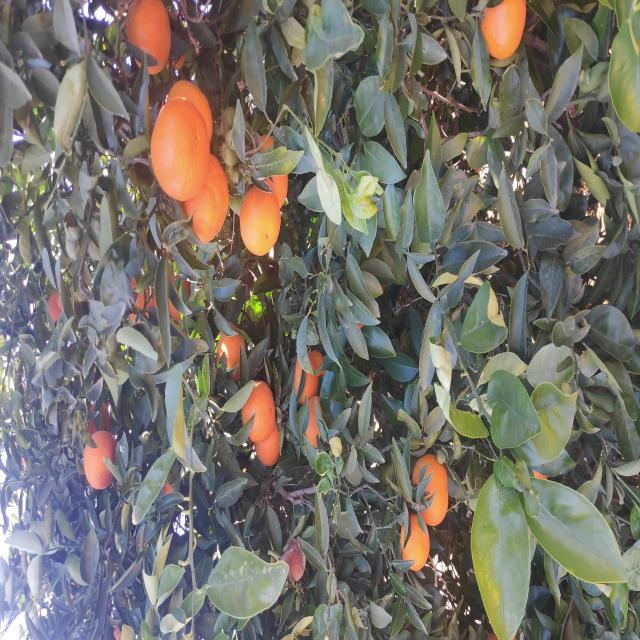Jeruk Sudah Matang: (440, 150, 540, 210), (398, 183, 486, 230), (566, 125, 640, 170), (386, 239, 457, 281), (498, 166, 561, 213), (581, 480, 640, 527), (115, 412, 187, 448), (436, 256, 506, 290), (200, 240, 258, 274), (153, 84, 210, 118), (262, 214, 315, 248), (68, 400, 124, 430), (238, 295, 291, 323), (192, 298, 240, 324), (174, 253, 220, 280), (318, 47, 350, 61)
